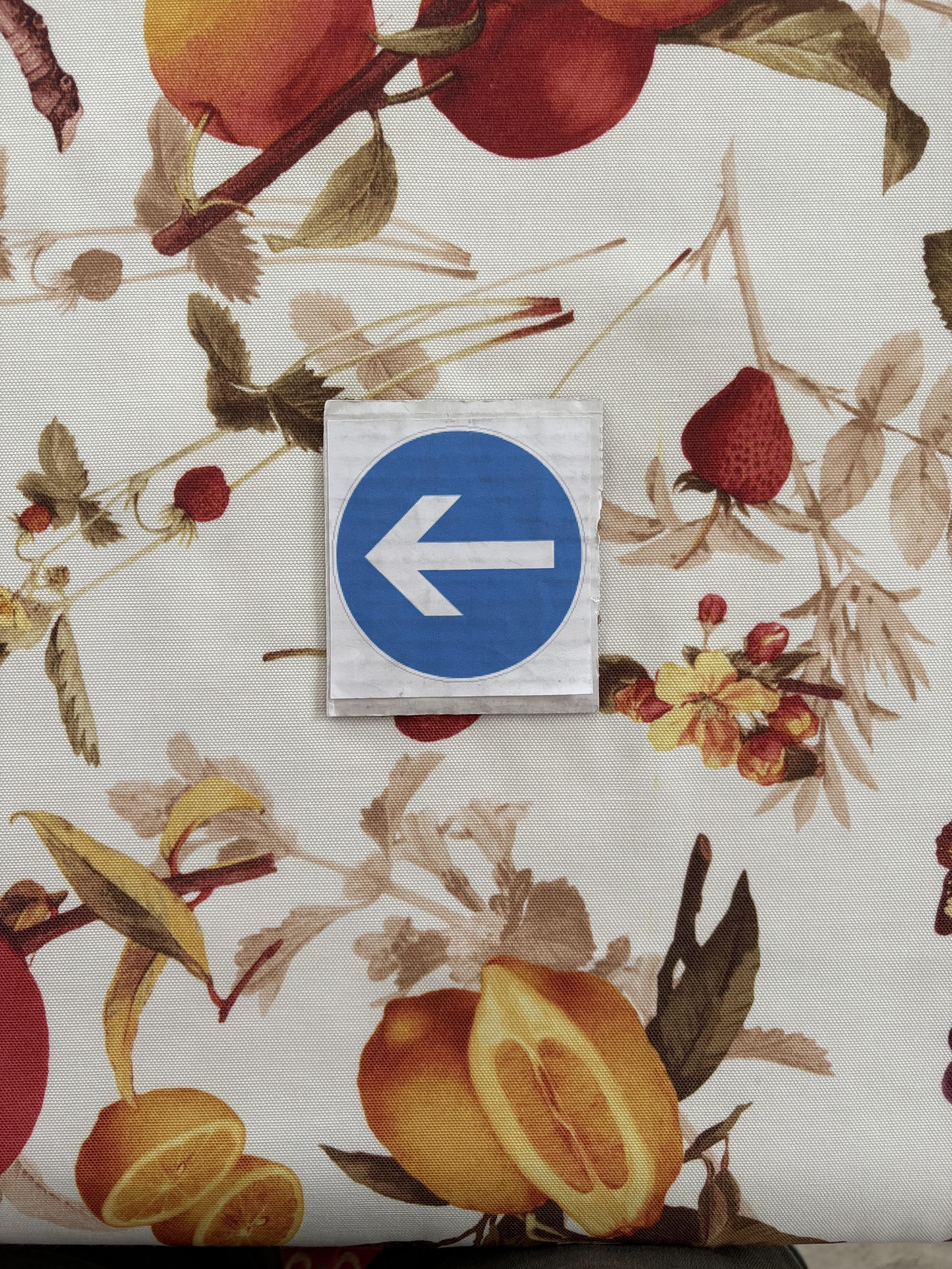Proceed Left: (324, 407, 602, 704)
